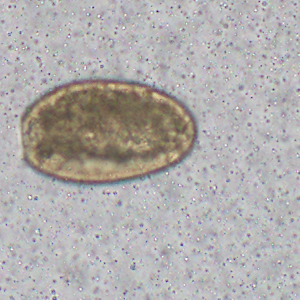Fasciola_hepatica_egg: (20, 75, 198, 188)
